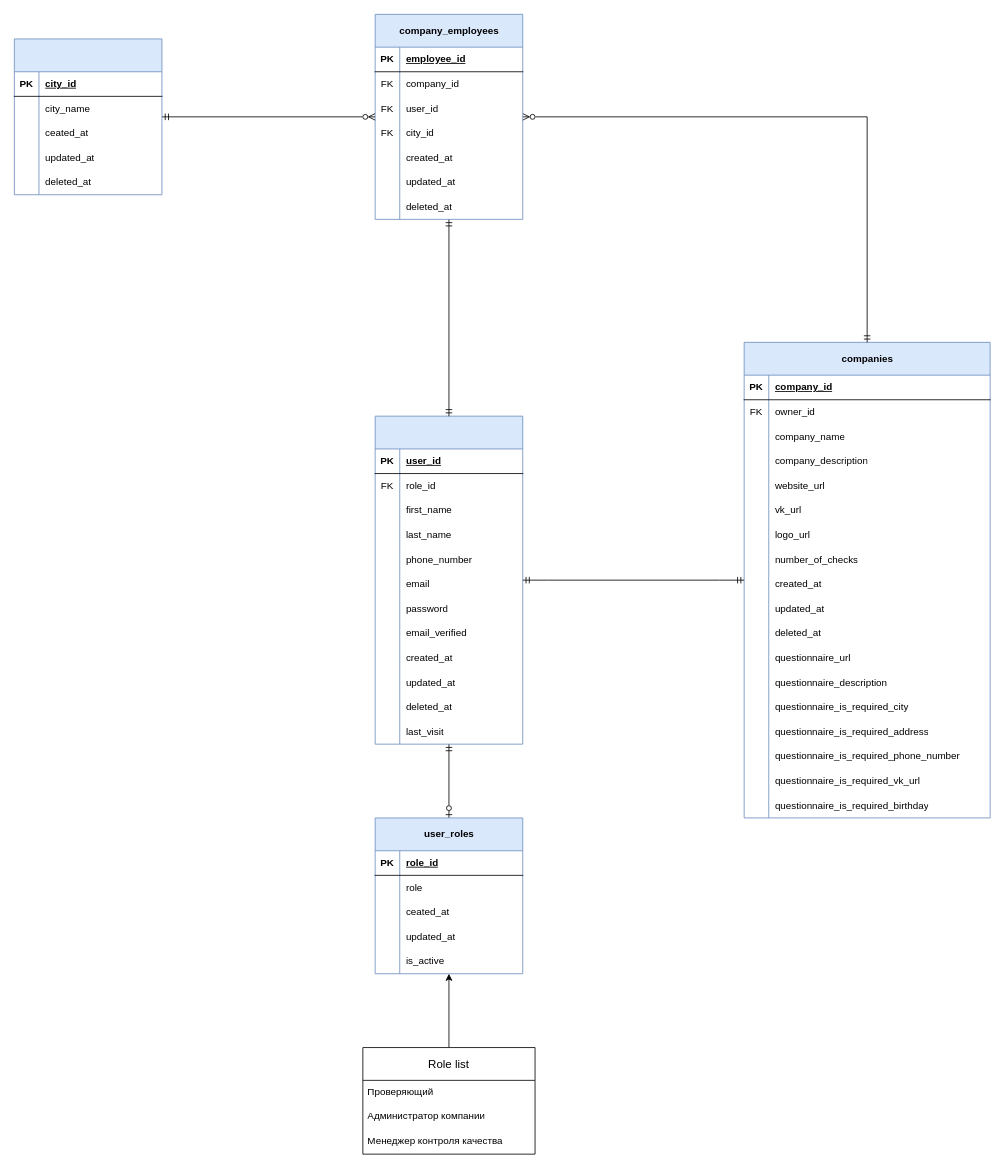
Some shapes in this 1005 by 1171 pixel diagram are drawn without their labels. The box of each missing label's shape, as (x1, y1, x2, y2) in pixels:
cities: (14, 38, 162, 195)
users: (374, 415, 523, 744)
